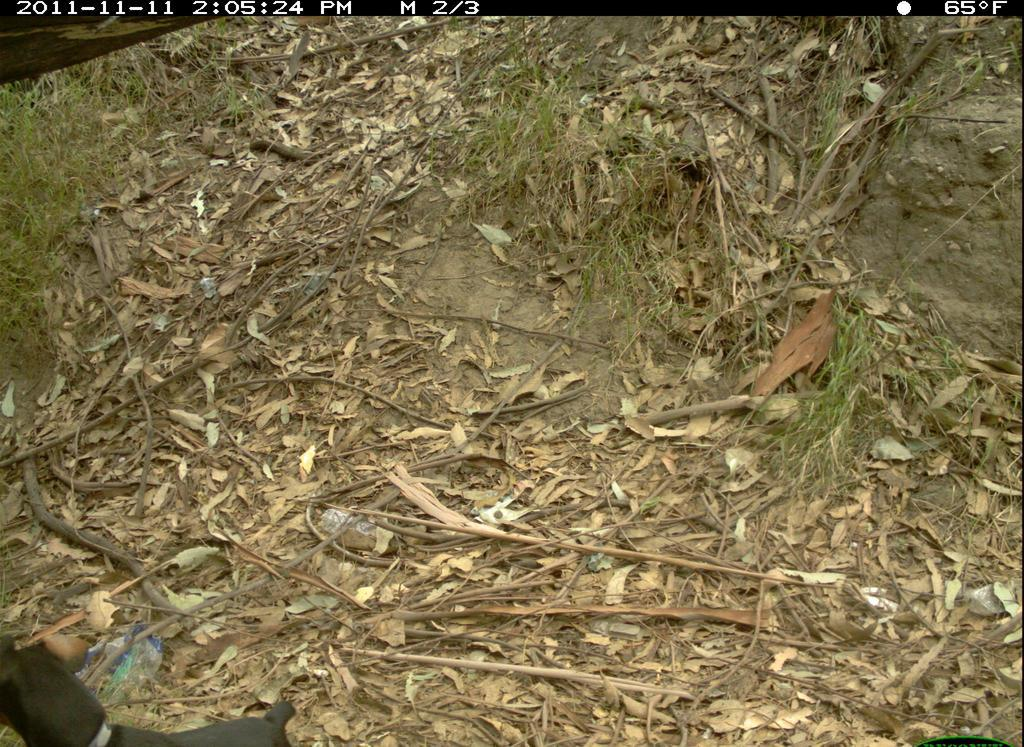dog: (2, 614, 314, 747)
